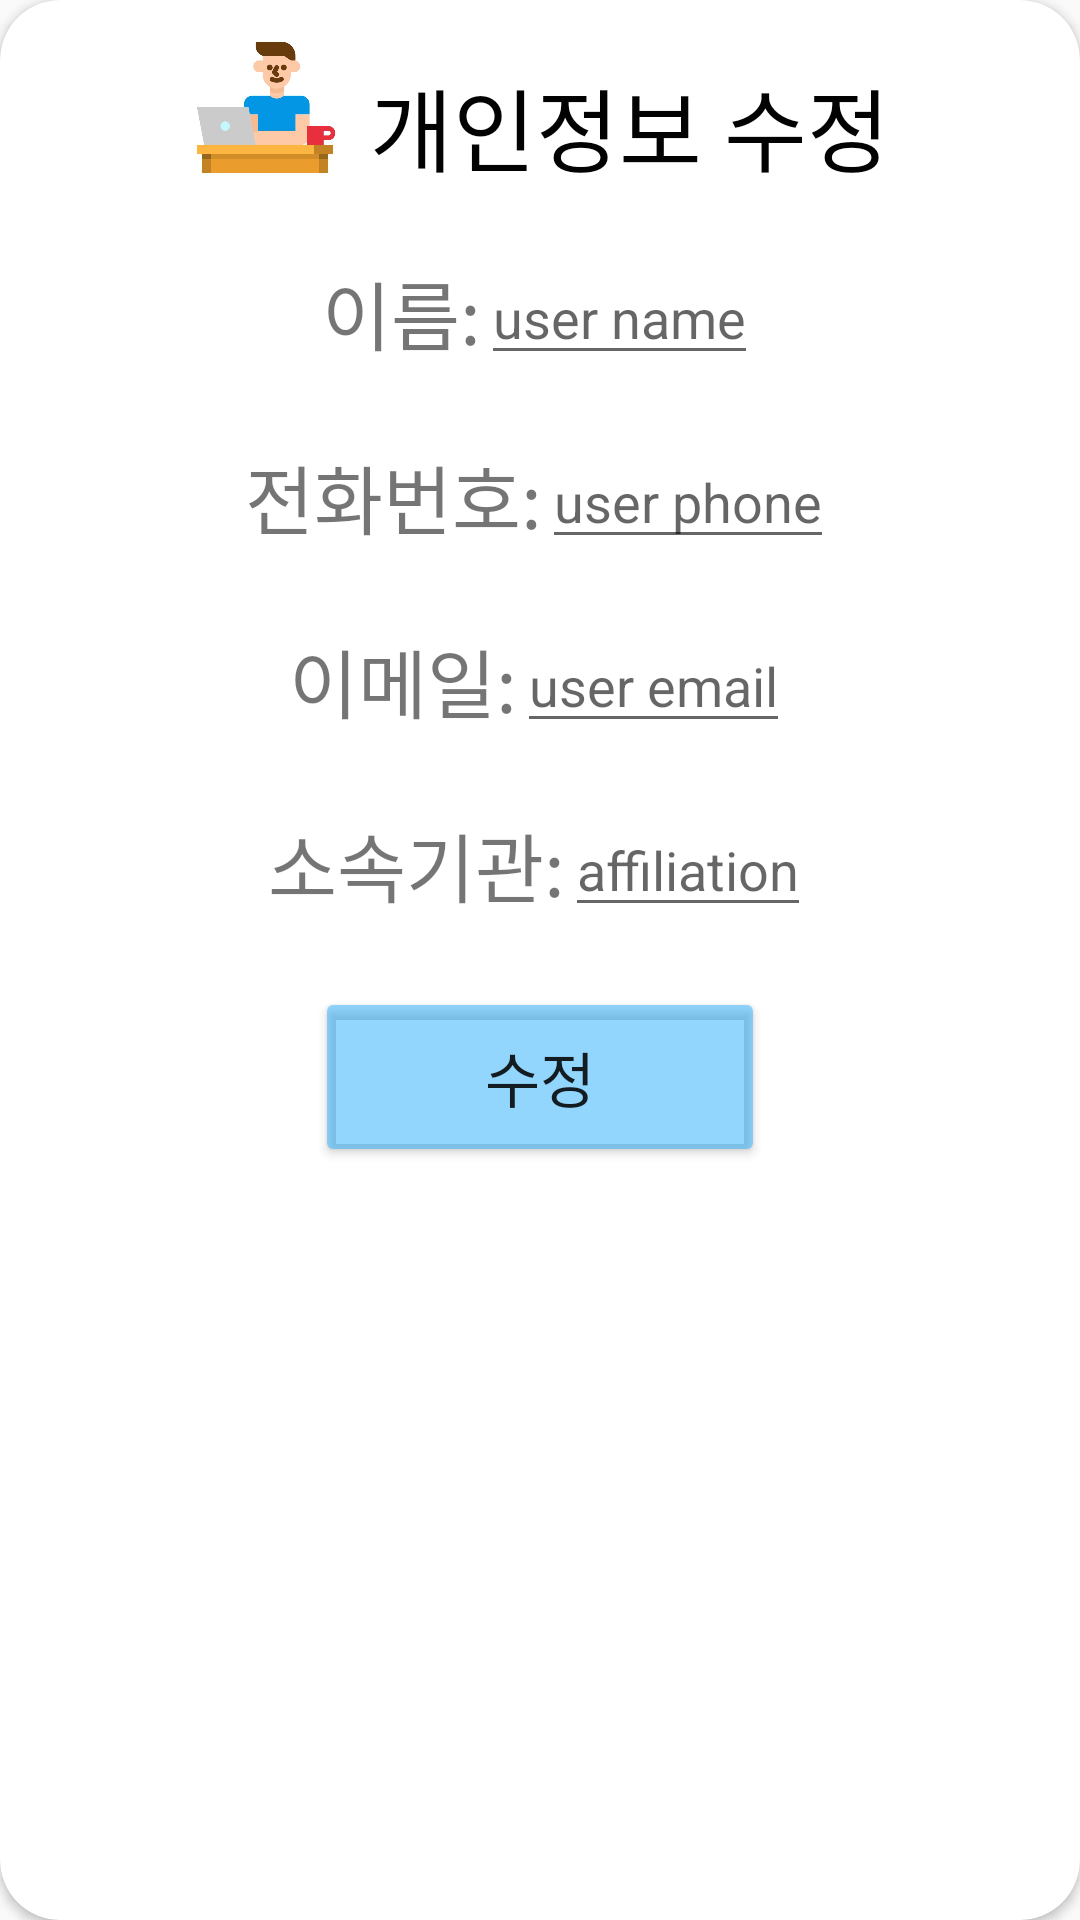

Icon bounding boxes for this 1080 × 1920 phone screenshot, format (x1, y1, x2, y2):
worker: (197, 42, 335, 173)
